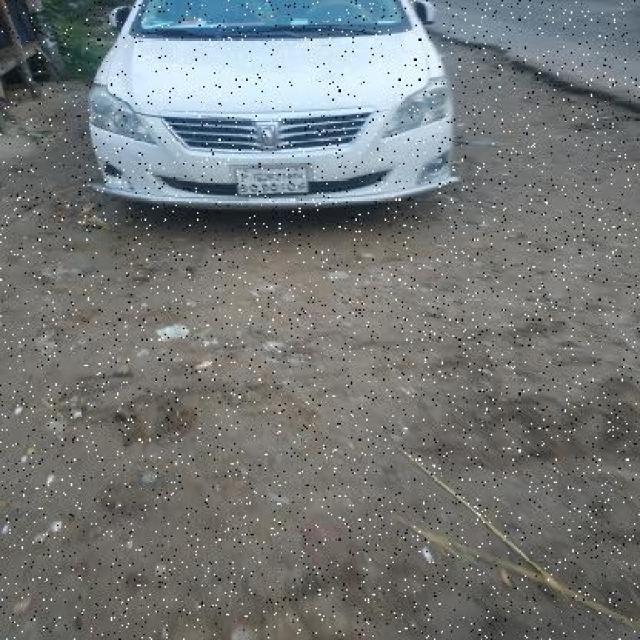numberplate: (234, 165, 311, 197)
